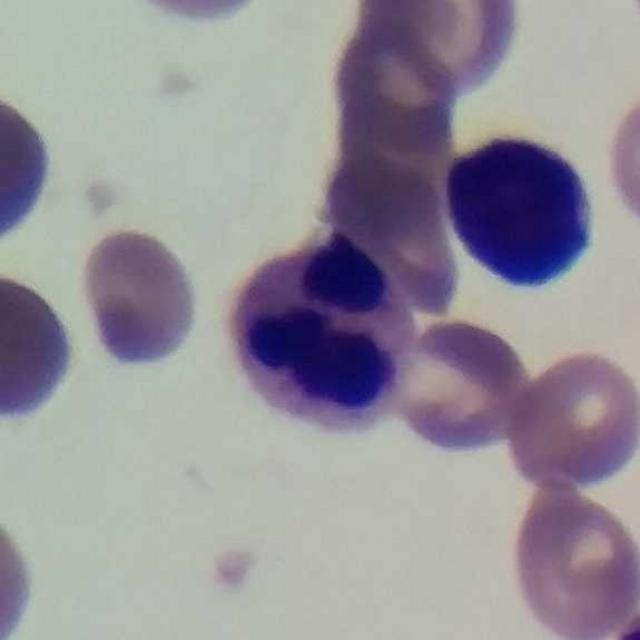Neutrophil: (224, 213, 437, 449)
Platelets: (204, 543, 259, 599)
RBC: (298, 38, 469, 318), (433, 117, 607, 300), (380, 312, 538, 460), (320, 11, 468, 159), (503, 484, 640, 640), (502, 344, 640, 492), (73, 222, 205, 376), (356, 0, 528, 102), (0, 271, 73, 432), (0, 86, 54, 252), (600, 80, 640, 241), (0, 501, 41, 640), (116, 0, 279, 30)
